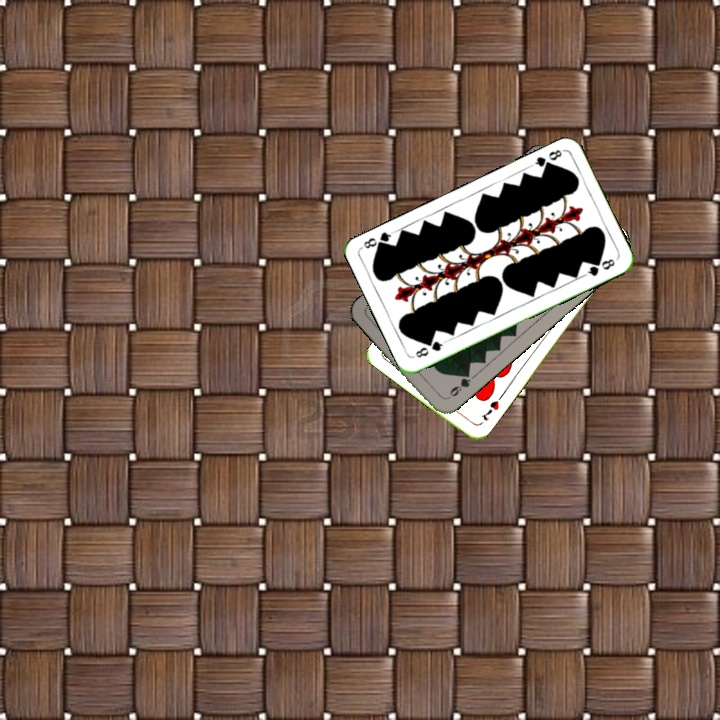G8: (527, 145, 565, 173), (411, 337, 448, 360)
G9: (442, 368, 473, 402)
H7: (477, 396, 502, 423)
